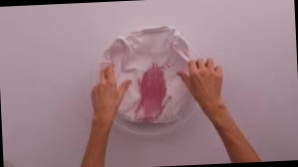wine: (125, 61, 174, 130)
